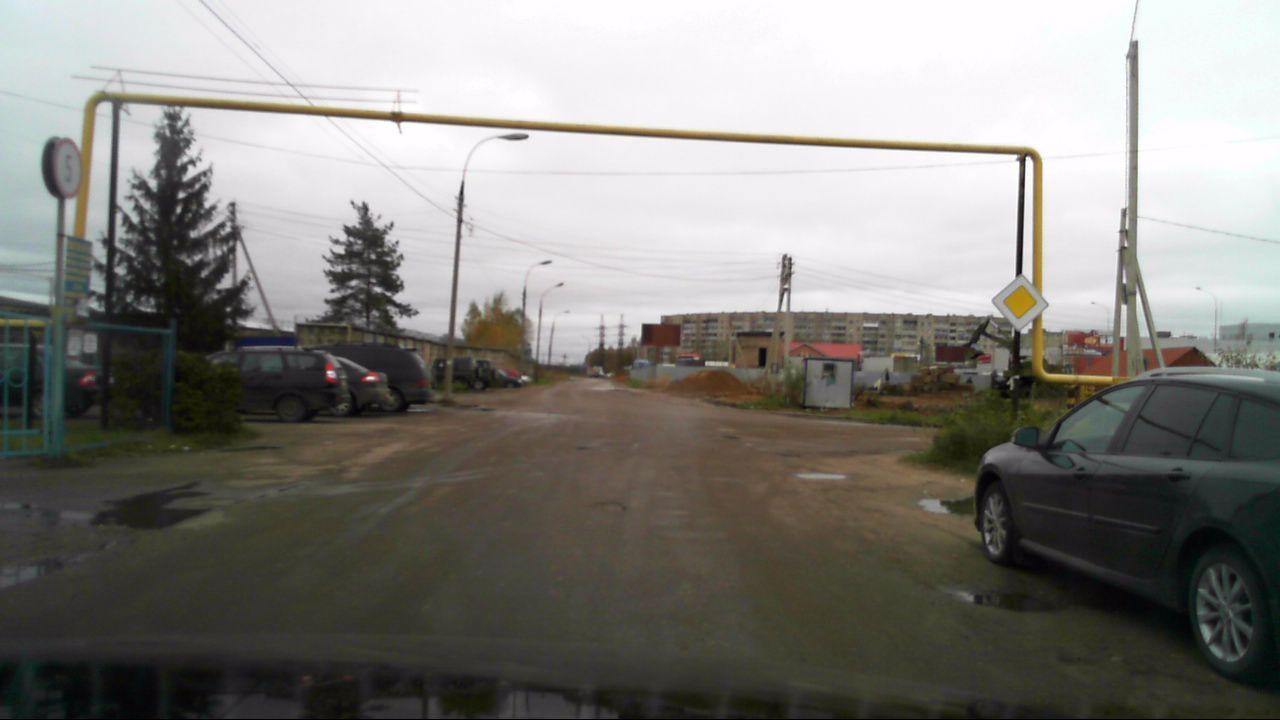road_sign: (990, 273, 1050, 332), (52, 137, 82, 201)
